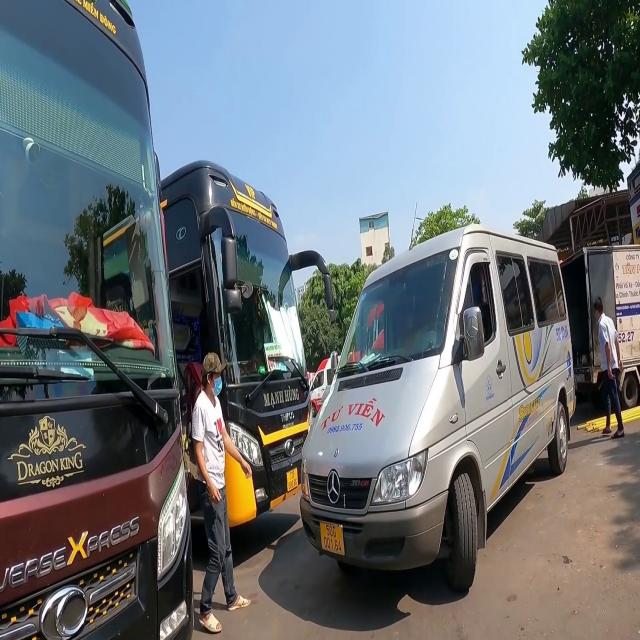bien_vang: (319, 519, 346, 559), (286, 467, 298, 493)
